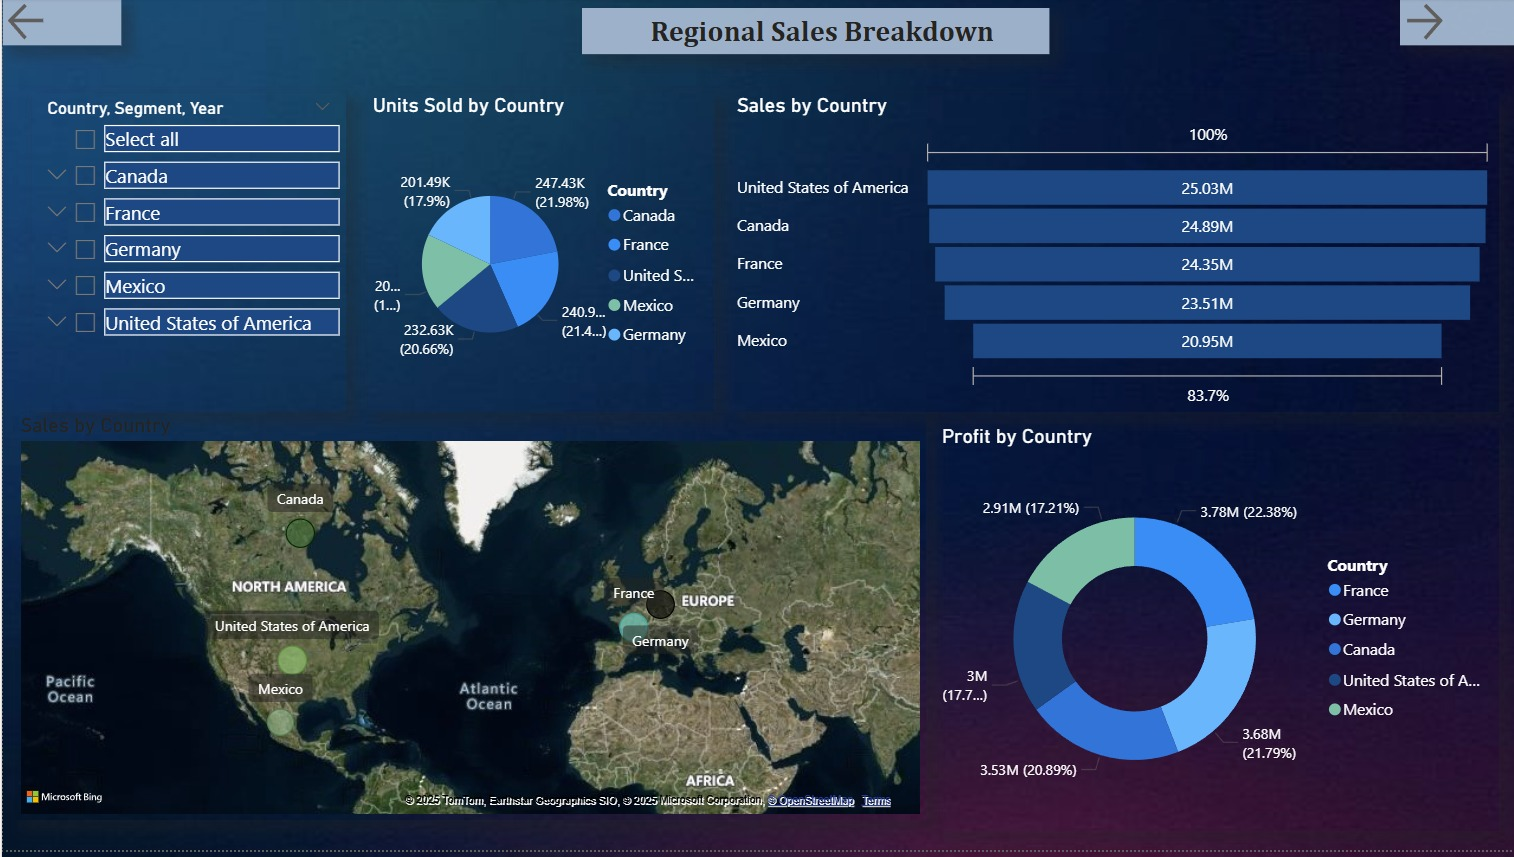

This screenshot's page, from the dashboard's own definition file:
{"tool":"powerbi","page":{"name":"REGIONAL SALES BREAKDOWN","canvas":[1280,720],"ordinal":3},"visuals":[{"type":"textbox","box":[489.3,8.5,394.6,38.9],"z":0},{"type":"actionButton","box":[0,0,100,40],"z":1000},{"type":"actionButton","box":[1180.4,0,99.6,40.2],"z":2000},{"type":"map","title":"Sales by Country","fields":{"Category":["financials.Country"],"Size":["Sum(financials. Sales)"]},"box":[10.1,350.7,769.9,343.9],"z":3000},{"type":"pieChart","title":"Units Sold by Country","fields":{"Category":["financials.Country"],"Y":["Sum(financials.Units Sold)"]},"box":[307.6,80.3,293.2,270.4],"z":4000},{"type":"donutChart","title":" Profit by Country","fields":{"Category":["financials.Country"],"Y":["Sum(financials.Profit)"]},"box":[788.5,360,475.8,343.9],"z":5000},{"type":"slicer","fields":{"Values":["financials.Country","financials.Segment","financials.Date.Variation.Date Hierarchy.Year"]},"box":[24.5,80.3,264.5,270.4],"z":6000},{"type":"funnel","title":"Sales by Country","fields":{"Category":["financials.Country"],"Y":["Sum(financials. Sales)"]},"box":[615.2,80.3,649,270.4],"z":7000}]}

Visuals, with their boxes in screenshot pixels (x1, y1, x2, y2), scaled from the page's 1280x720 canvas onto the 1514x857 screenshot:
textbox: {"x1": 579, "y1": 10, "x2": 1045, "y2": 56}
actionButton: {"x1": 0, "y1": 0, "x2": 118, "y2": 48}
actionButton: {"x1": 1396, "y1": 0, "x2": 1513, "y2": 48}
"Sales by Country" map: {"x1": 12, "y1": 417, "x2": 923, "y2": 827}
"Units Sold by Country" pieChart: {"x1": 364, "y1": 96, "x2": 711, "y2": 417}
" Profit by Country" donutChart: {"x1": 933, "y1": 428, "x2": 1495, "y2": 838}
slicer - financials.Country x financials.Segment: {"x1": 29, "y1": 96, "x2": 342, "y2": 417}
"Sales by Country" funnel: {"x1": 728, "y1": 96, "x2": 1495, "y2": 417}
